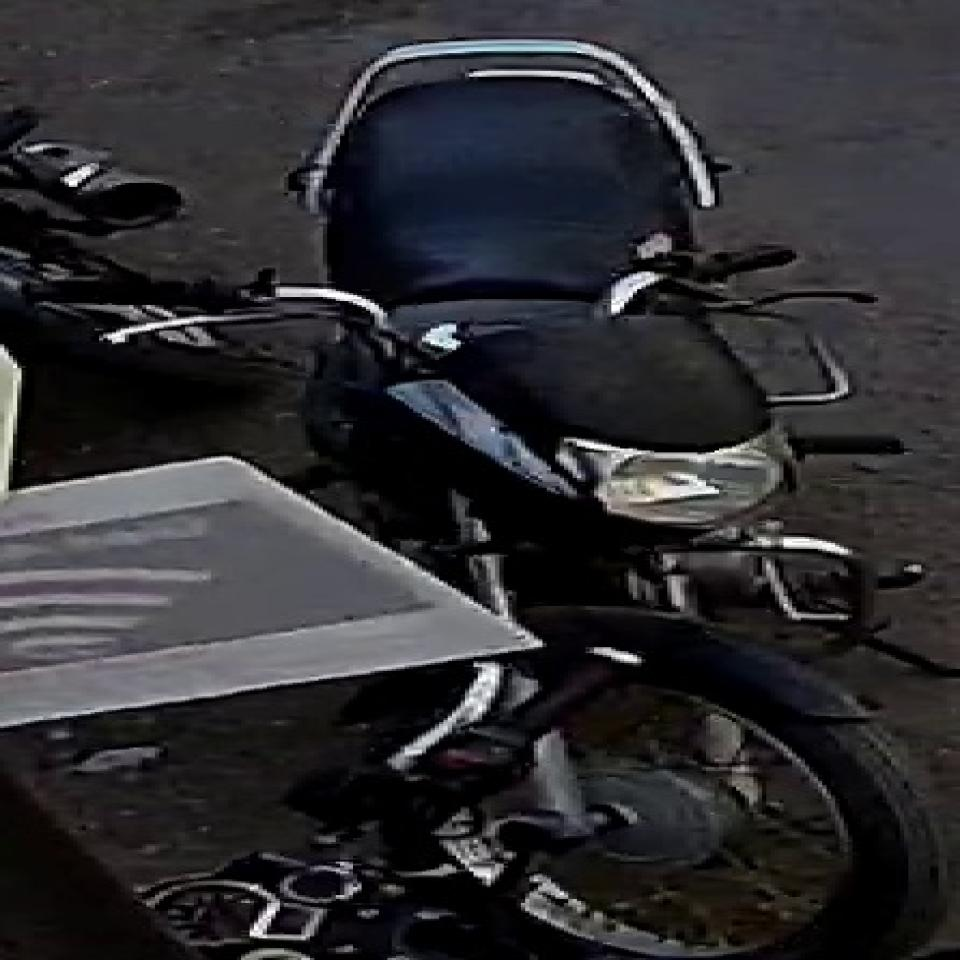head_light: (540, 433, 792, 531)
